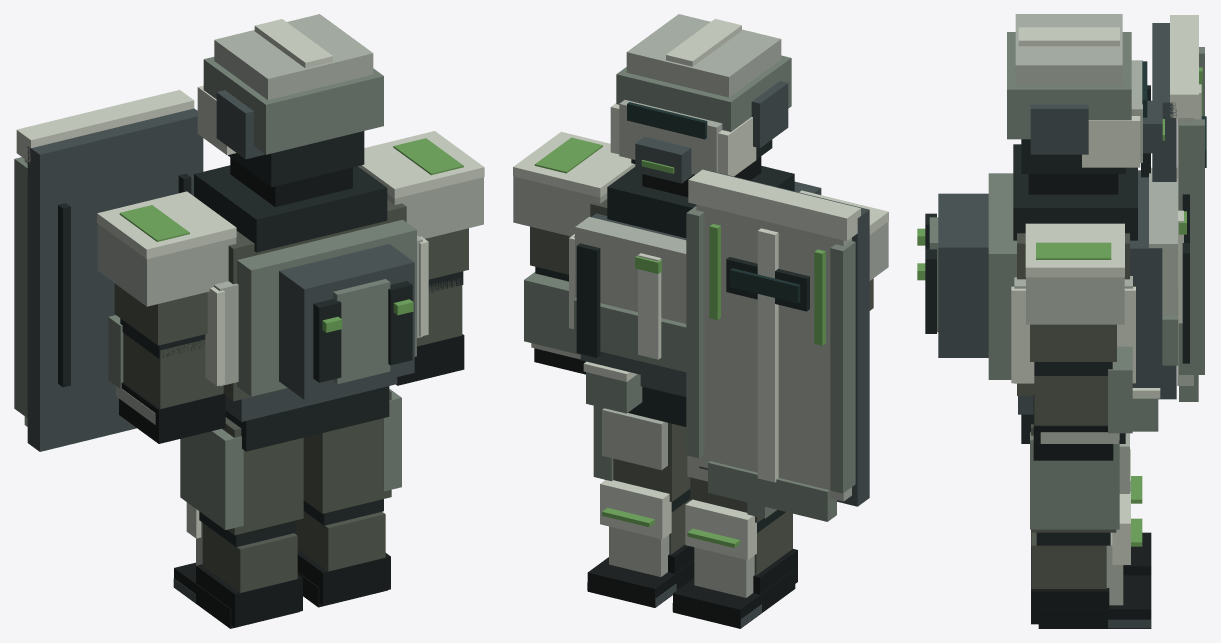
The model's file is bulwark.glb.
The picture shows the model from 3 angles, left to right: view 1: azimuth 30°, elevation 25°; view 2: azimuth 150°, elevation 25°; view 3: azimuth 270°, elevation 25°; orthographic projection. The views are drawn at different scales.
Visible parts, largest first — view 1: Merged_material (×19), shield backing, helmet low skirt, outer armor L, deltoid upper lip L, deltoid upper lip R, head shell, gauntlet L, neck seal, gauntlet R, torso base, outer armor R (+6 smaller); view 2: Merged_material (×21), shield armor face, helmet low skirt, shield backing, deltoid upper lip R, forearm plate R, knee plate R, knee plate L, helmet visor slot, viewport glass, shoulder green marking R, neck seal (+3 smaller); view 3: Merged_material (×17), outer armor R, helmet low skirt, deltoid upper lip R, shield backing, gauntlet R, forearm plate R, neck seal, head shell, shoulder green marking R, knee plate R, elbow hinge R (+4 smaller).
Boxes of the visible parts, box(x1,y1,x2,y2) form: Merged_material (×19): box(14, 14, 483, 628); shield backing: box(27, 108, 203, 451); helmet low skirt: box(203, 57, 383, 154); outer armor L: box(180, 428, 243, 530); deltoid upper lip L: box(97, 191, 236, 259); deltoid upper lip R: box(358, 131, 484, 198); head shell: box(228, 131, 364, 187); gauntlet L: box(119, 382, 225, 443); neck seal: box(230, 157, 352, 207); gauntlet R: box(396, 334, 464, 385); torso base: box(223, 200, 406, 401); outer armor R: box(383, 389, 401, 491); Merged_material (×21): box(513, 14, 888, 628); shield armor face: box(696, 204, 851, 501); helmet low skirt: box(616, 55, 791, 131); shield backing: box(699, 171, 869, 506); deltoid upper lip R: box(513, 131, 635, 197); forearm plate R: box(524, 272, 580, 354); knee plate R: box(600, 480, 671, 539); knee plate L: box(685, 499, 756, 560); helmet visor slot: box(627, 102, 707, 139); viewport glass: box(730, 268, 800, 303); shoulder green marking R: box(534, 137, 602, 173); neck seal: box(642, 156, 761, 197); Merged_material (×17): box(917, 14, 1204, 628); outer armor R: box(1030, 432, 1119, 529); helmet low skirt: box(1007, 32, 1131, 139); deltoid upper lip R: box(1025, 223, 1124, 277); shield backing: box(1152, 23, 1176, 399); gauntlet R: box(1033, 394, 1113, 460); forearm plate R: box(1108, 346, 1132, 433); neck seal: box(1028, 174, 1118, 194); head shell: box(1021, 139, 1125, 173); shoulder green marking R: box(1036, 242, 1111, 259); knee plate R: box(1112, 492, 1130, 564); elbow hinge R: box(1034, 362, 1112, 375).
Bounding box in the file's own units: 1.52 × 2.12 × 0.999.
